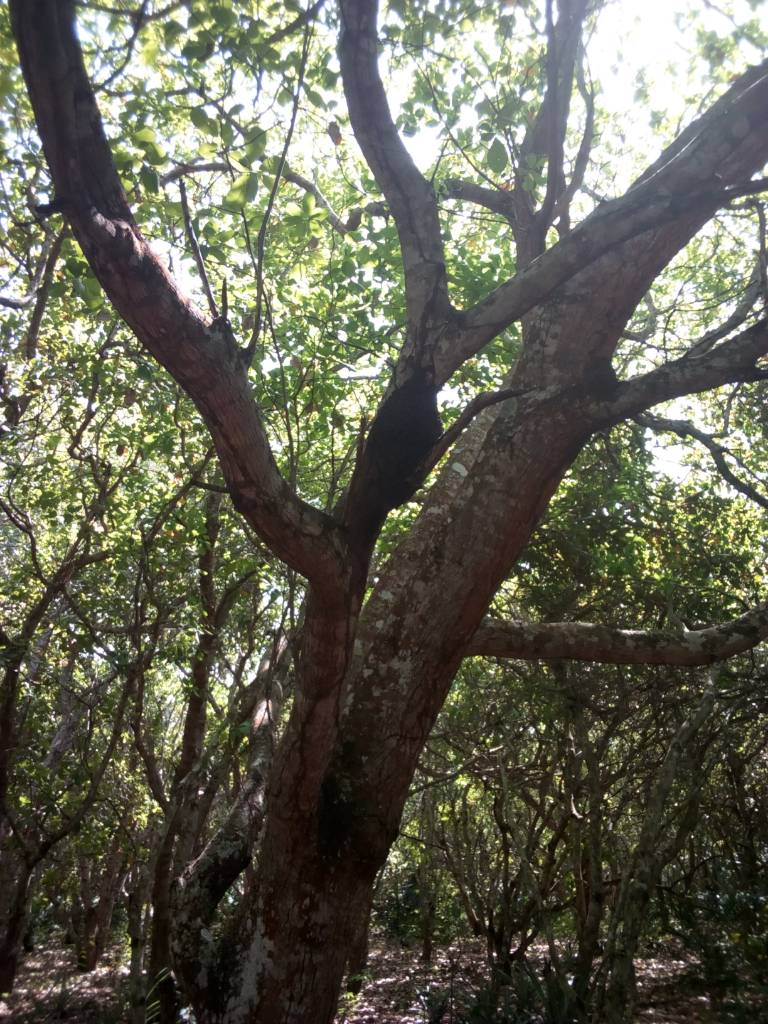Termites: (368, 394, 457, 483)
